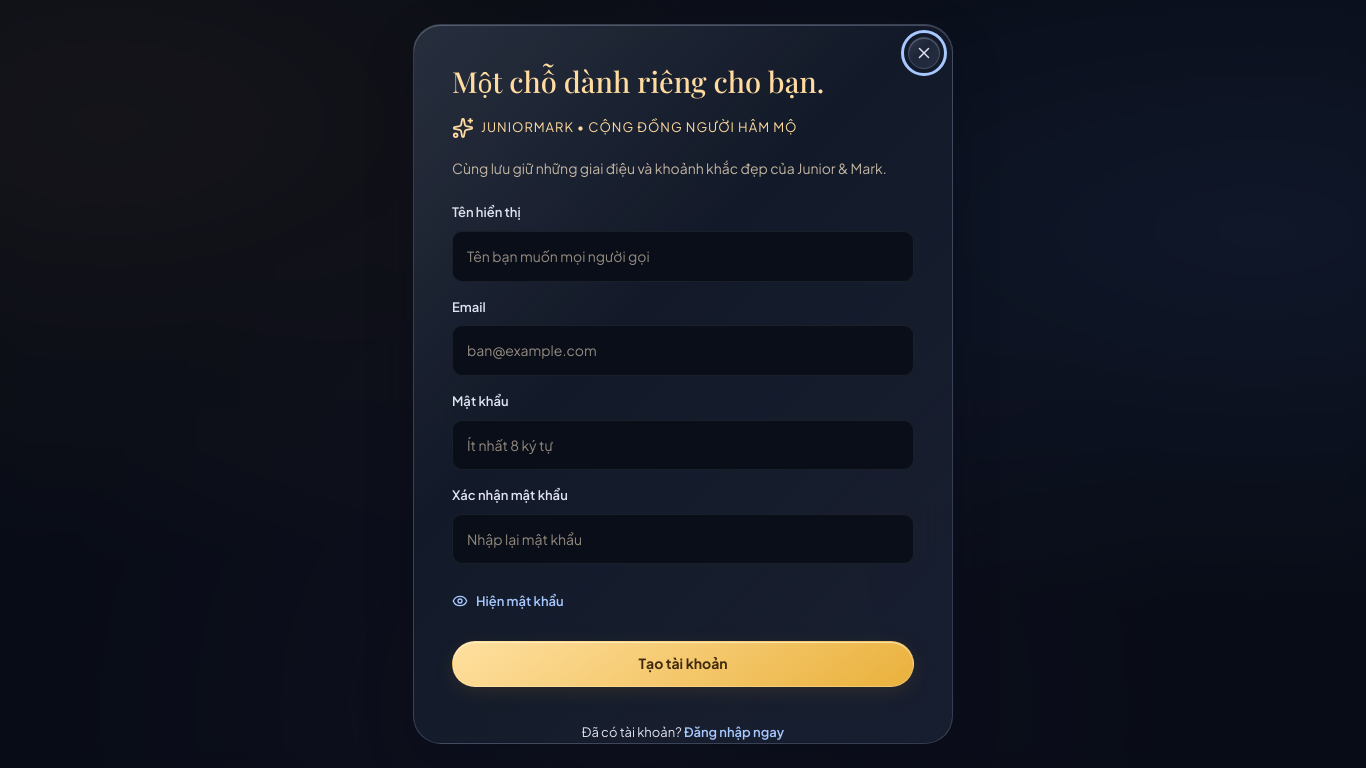
Test: switches form labels and existing validation without changing entered values
The image size is (1366, 768).
In the field labelled "Tên hiển thị": (683, 256) x1=452 y1=231 x2=914 y2=282, type "Ghi chú"
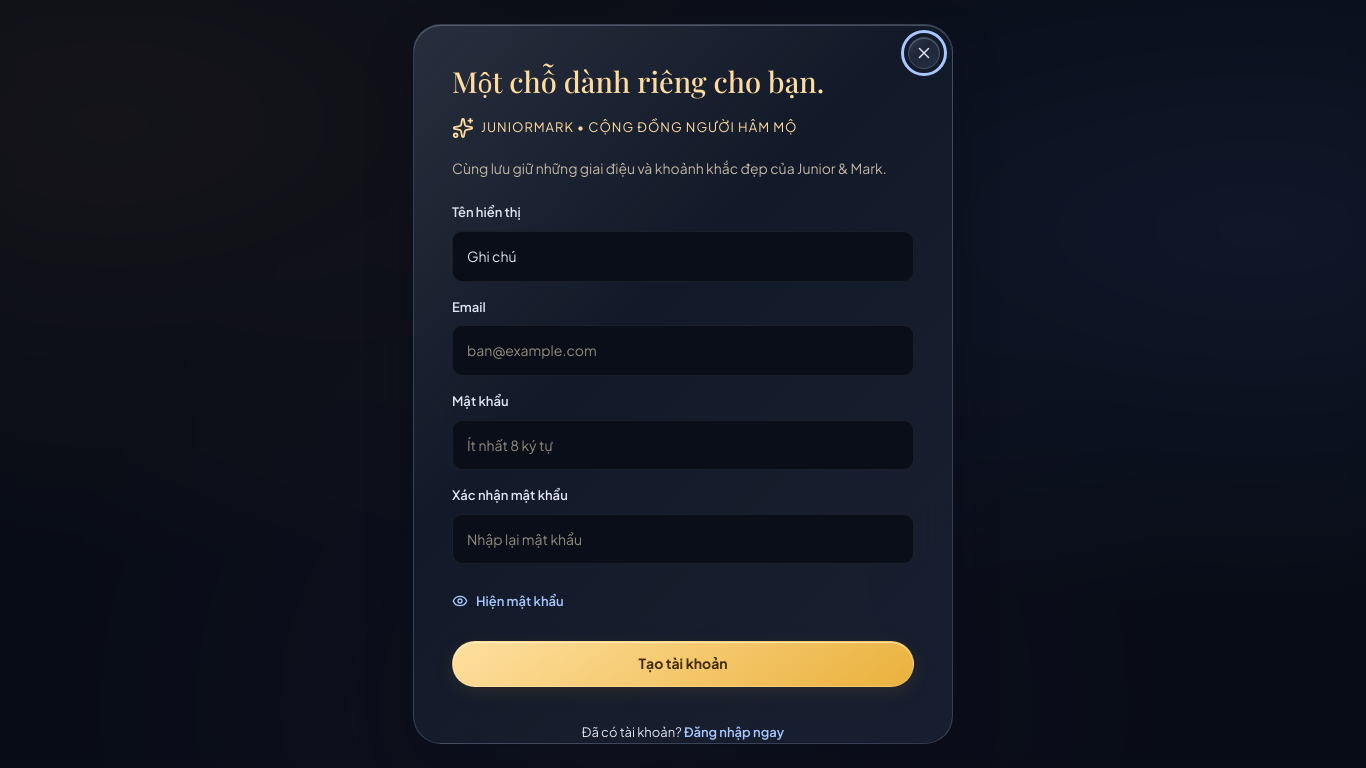
Click the button "Tạo tài khoản": (683, 664) x1=452 y1=641 x2=914 y2=687
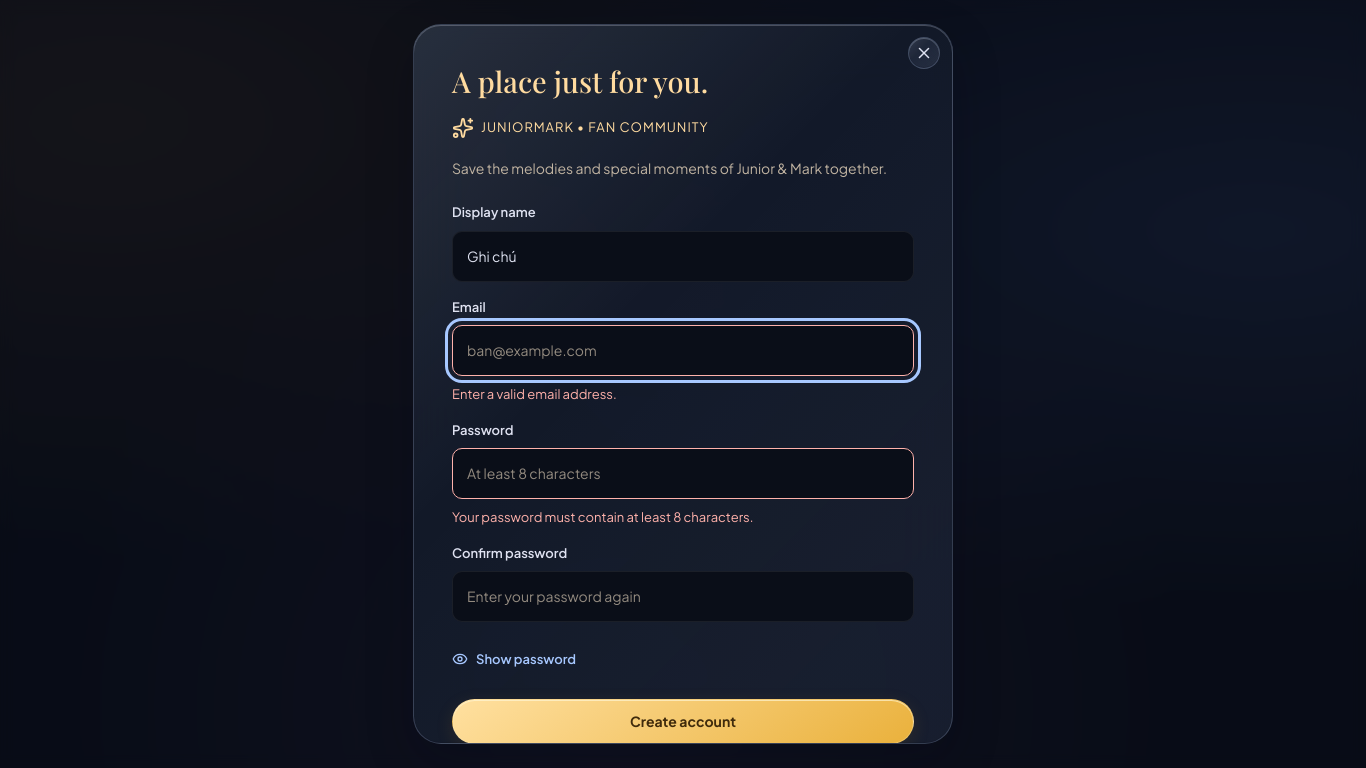
Expected: the text "Enter a valid email address." is shown, x1=452 y1=386 x2=617 y2=402
Expected: the button "Create account" is shown, x1=452 y1=699 x2=914 y2=744
